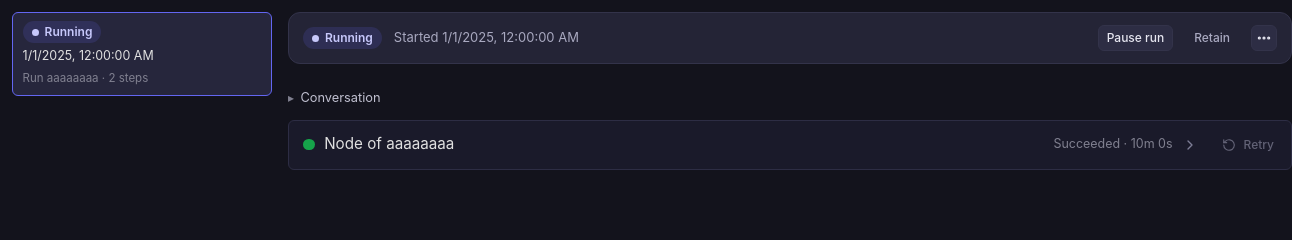
Test: RunsPanel run actions › a refused cancel shows the server's message and keeps the run
Expected: the text "Node of aaaaaaaa" is shown, [324,133,454,156]
What coordinates should you click on to do the following:
click the button named "Run actions"
I would click on:
 (1264, 38)
Its box is [1251,25,1277,51].
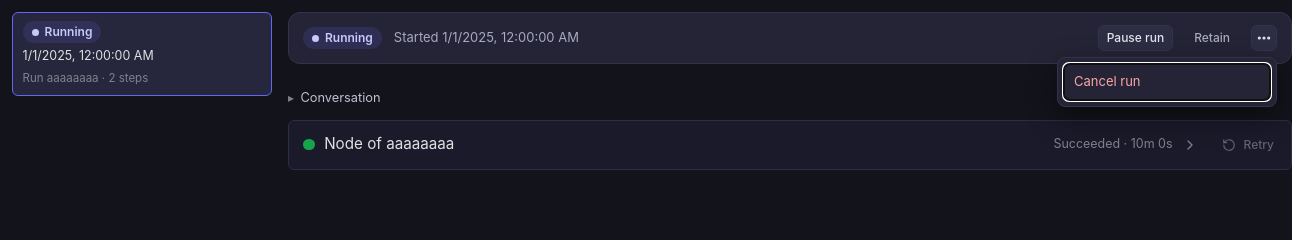
What coordinates should you click on to do the following:
click the menu item "Cancel run"
I would click on:
 (1167, 82)
Its box is [1064,64,1270,100].
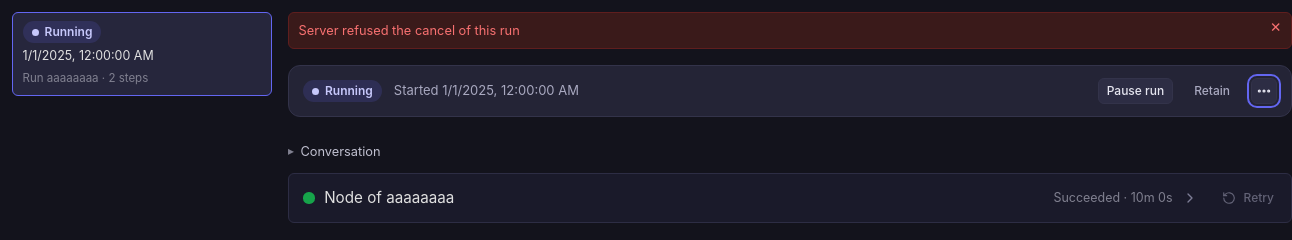
Expected: the button "Running 1/1/2025, 12:00:00 AM Run aaaaaaaa · 2 steps" is shown, [12,12,272,96]
Expected: the text "Node of aaaaaaaa" is shown, [324,187,454,209]
What coordinates should you click on to do the following:
click the button named "Run actions"
I would click on:
 (1264, 91)
Its box is [1251,78,1277,104].
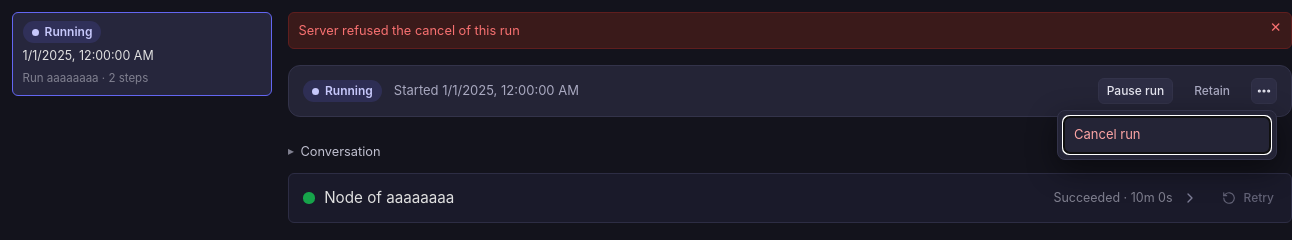
Expected: the menu item "Cancel run" is shown, [1064,117,1270,153]
What coordinates should you click on to do the following:
click the button "✕"
I would click on:
 (1276, 28)
Its box is [1270,21,1281,35].
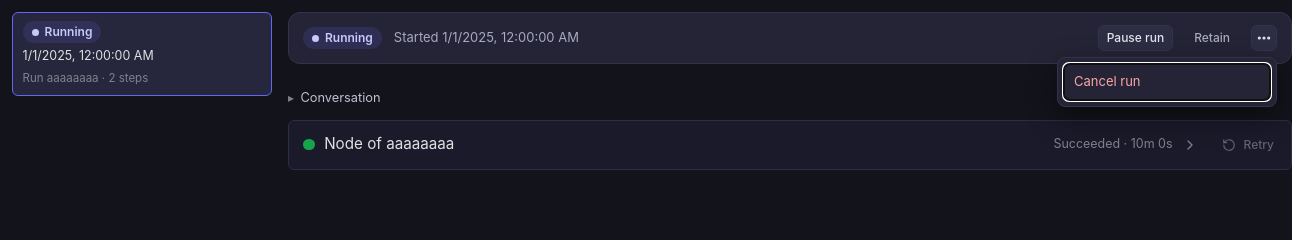
Expected: the message "Server refused the cancel of this run ✕" is gone
